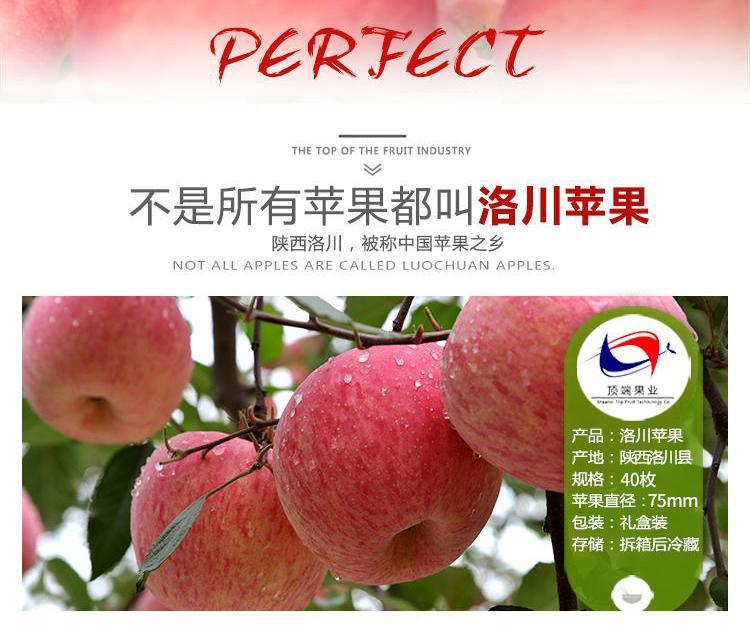apple: (142, 360, 471, 603), (262, 347, 493, 563), (131, 417, 330, 618), (18, 298, 190, 456)
